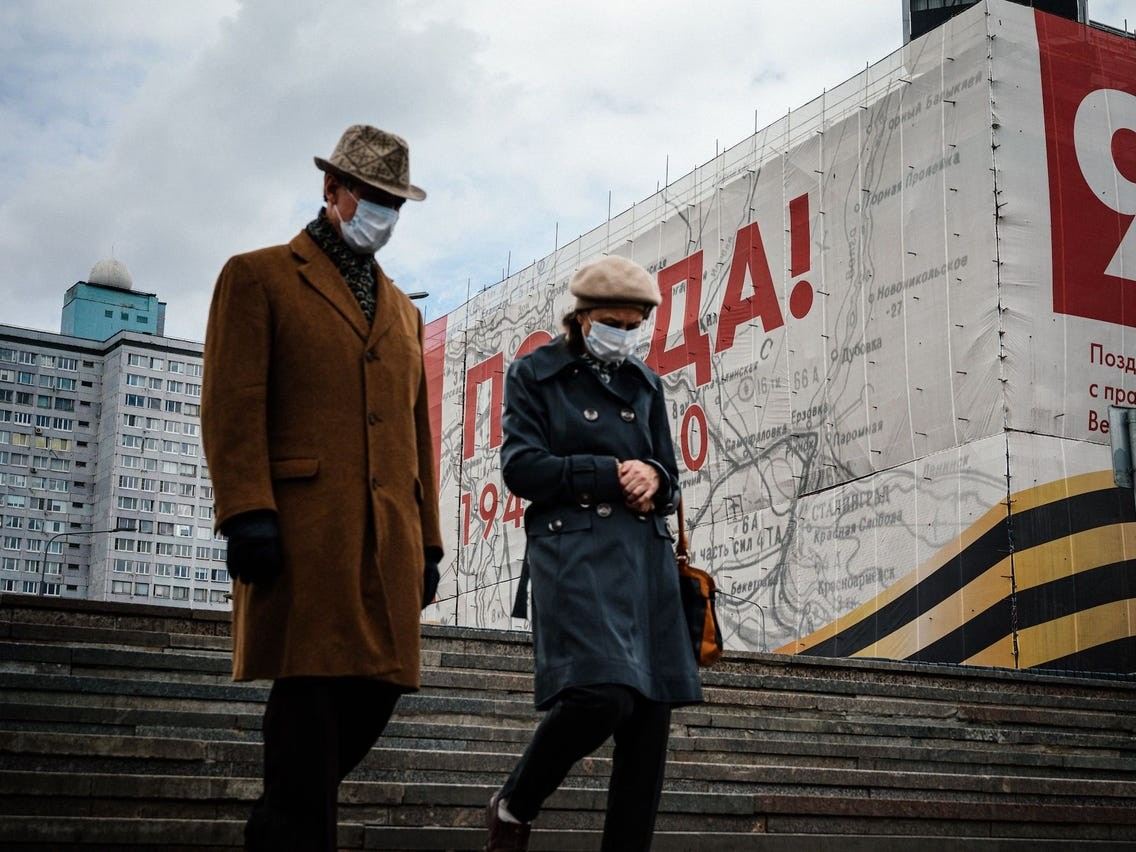with_mask: (339, 195, 401, 255), (586, 312, 644, 363)
